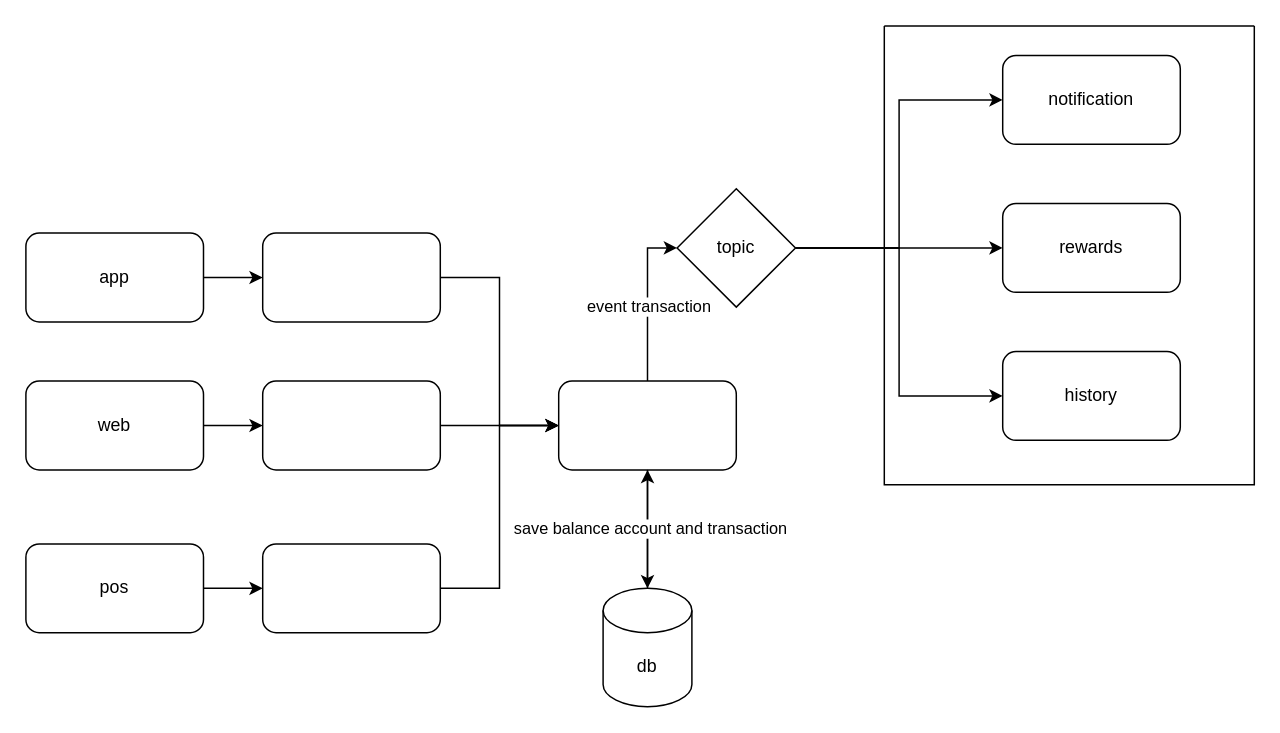
Some shapes in this 1280 by 733 pixel diagram are drawn without their labels. Here are the shapes that lost their labels. From the top down, the centre of each, then its label:
At point 350,277: "app-bff".
At point 350,425: "web-bff".
At point 646,425: "wallet".
At point 350,587: "pos-bff".
